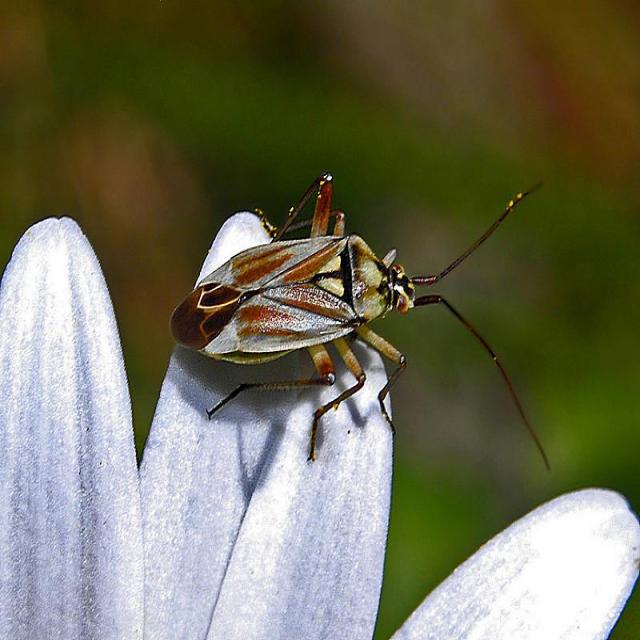Miridae-Adult-: (154, 165, 569, 468)
